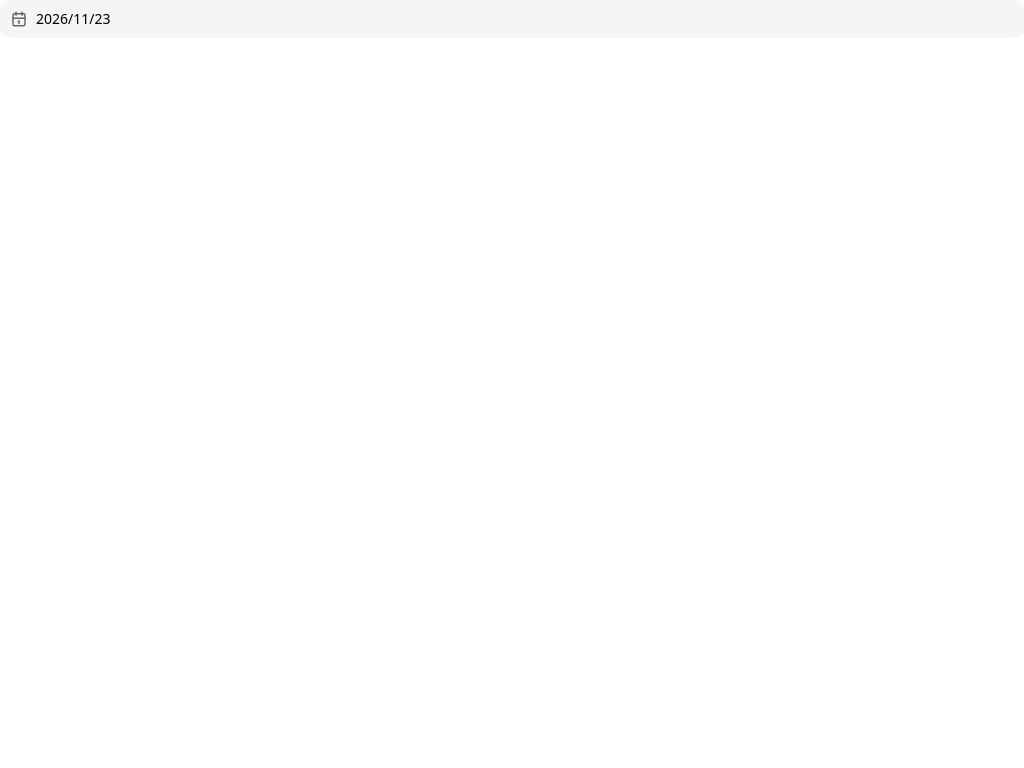
Test: 搜索日历 › 结束日历禁用起始前的日期，同一天可选并包含整天，结束不能清空
The image size is (1024, 768).
Later steps or results of the test are not shown.
What coordinates should you click on to do the following:
click the button named "结束"
I would click on:
 (73, 18)
Its box is x1=0 y1=0 x2=1023 y2=38.
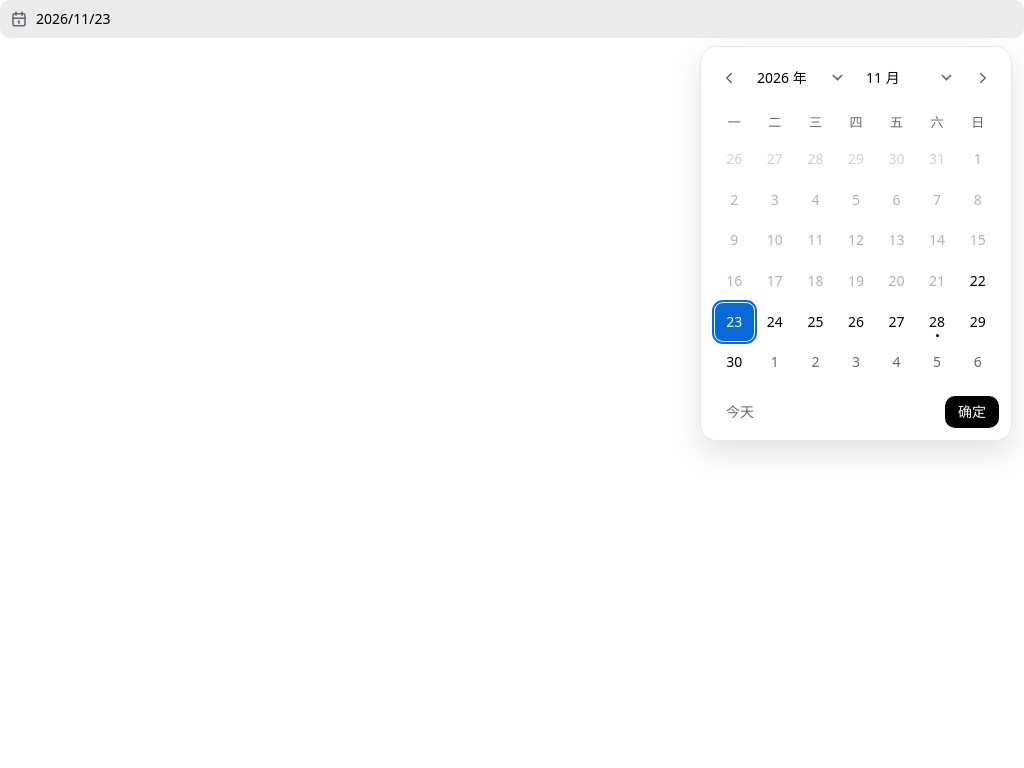
Check: the button named "2026年11月21日" is disabled, box x1=918 y1=262 x2=956 y2=300
